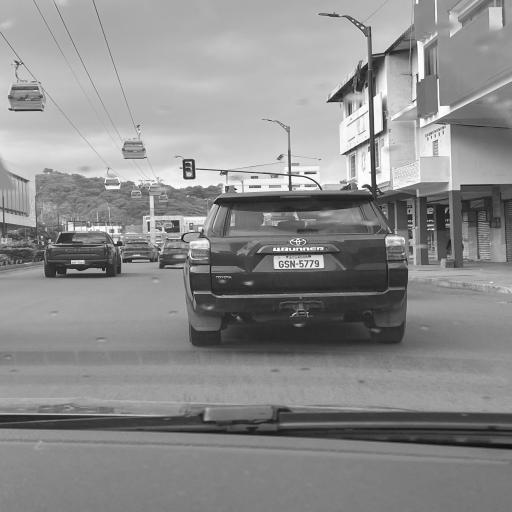license_plate: (278, 260, 284, 269), (314, 260, 320, 268), (309, 259, 314, 268), (290, 260, 295, 268), (299, 260, 304, 268), (285, 260, 289, 268), (304, 260, 308, 268)
